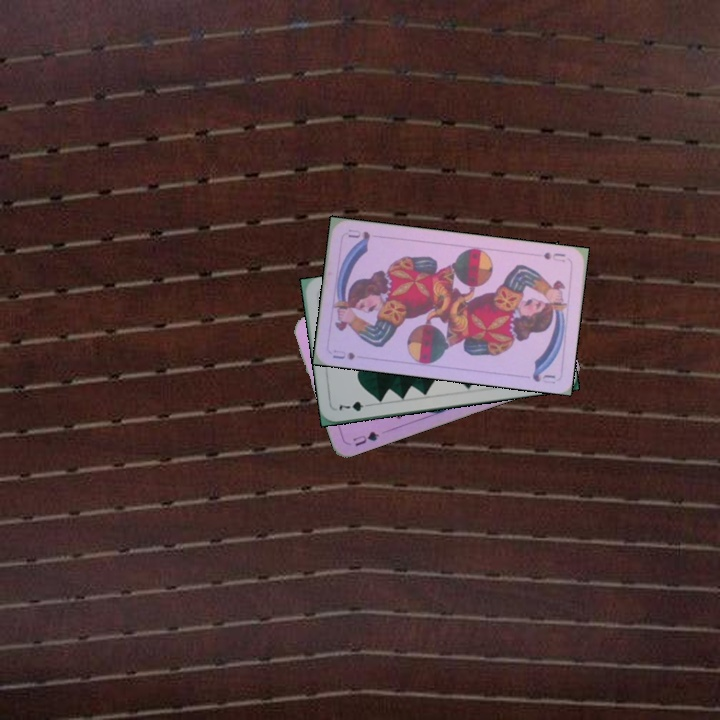G7: (335, 397, 374, 414)
GU: (349, 427, 382, 449)
SU: (328, 346, 358, 362), (539, 248, 568, 264)
